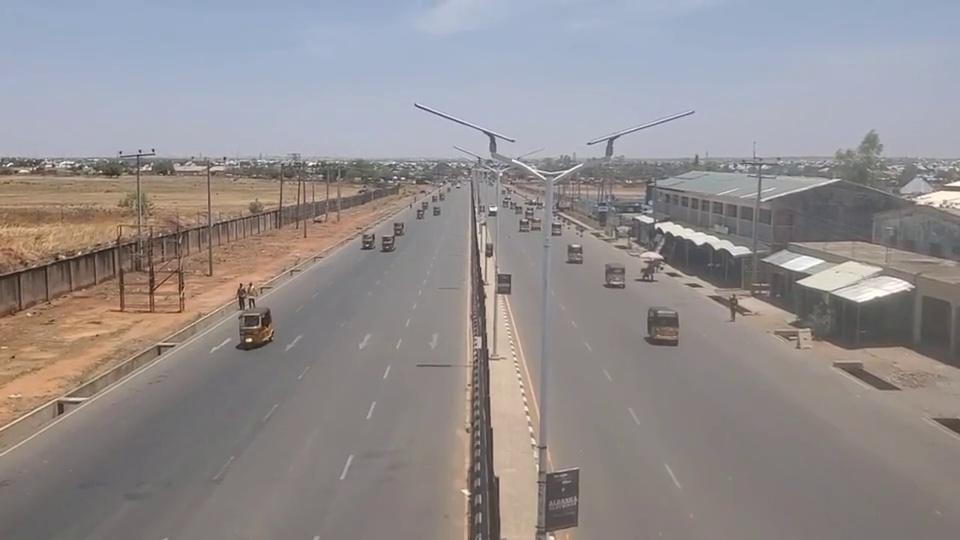keke: (237, 306, 274, 348), (646, 305, 679, 345), (604, 263, 626, 287), (566, 243, 583, 263), (361, 232, 375, 249), (381, 234, 395, 251), (393, 222, 404, 236), (416, 208, 424, 219), (433, 205, 441, 215)
